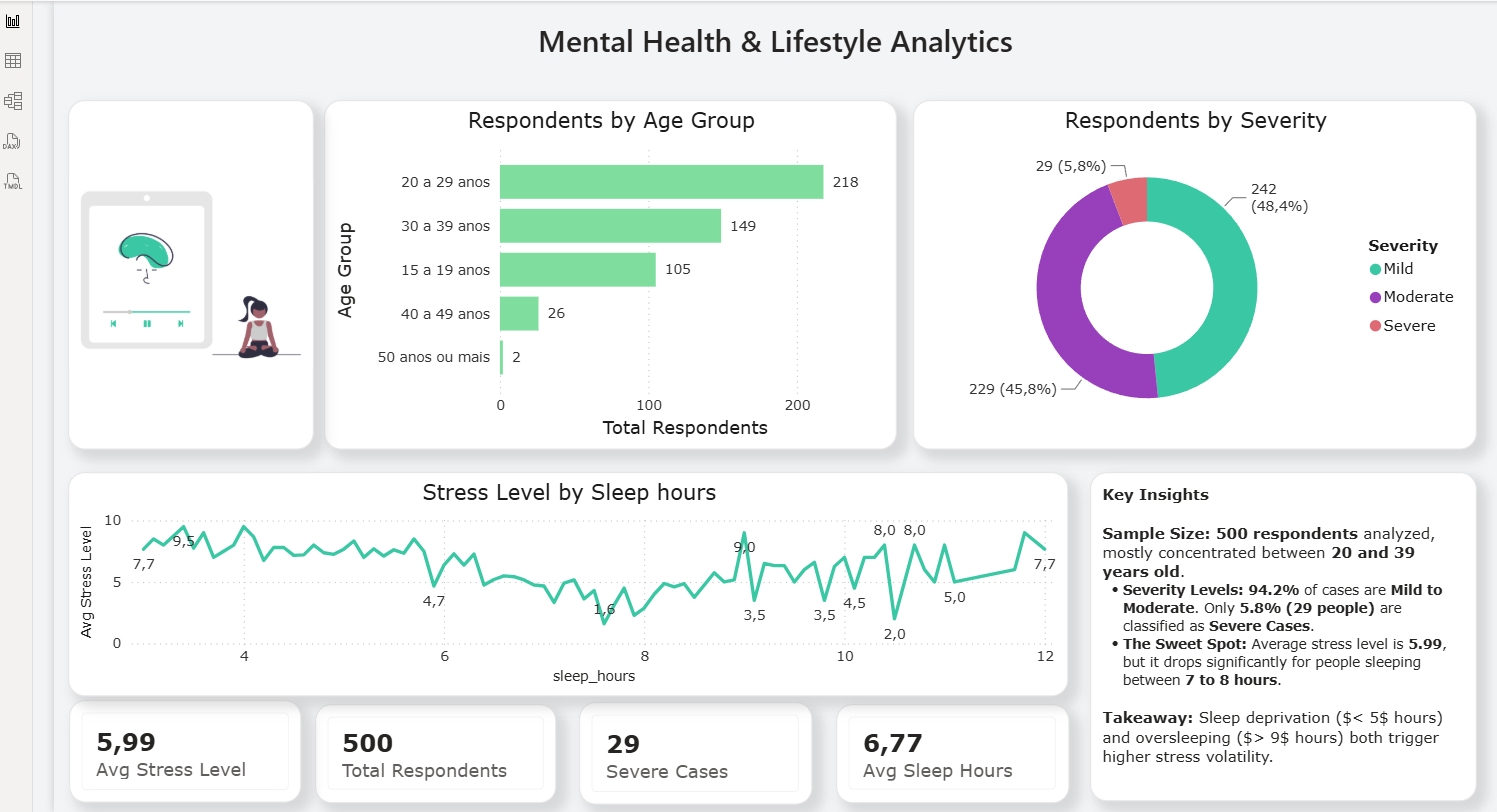

The dashboard page shown, as its layout file describes it:
{"tool":"powerbi","page":{"name":"Dashboard","canvas":[1280,720],"ordinal":0},"visuals":[{"type":"cardVisual","fields":{"Data":["_Medidas.Total Respondentes"]},"box":[231.1,623.4,214,87.8],"z":0},{"type":"cardVisual","fields":{"Data":["_Medidas.Média Nível Estresse"]},"box":[13,620,206,91],"z":1000},{"type":"cardVisual","fields":{"Data":["_Medidas.Média Horas Sono"]},"box":[693.2,623.4,206.9,87.8],"z":2000},{"type":"cardVisual","fields":{"Data":["_Medidas.Casos Graves"]},"box":[465.8,621.7,206.9,91.3],"z":3000},{"type":"barChart","title":"Respondents by Age Group","fields":{"Category":["mental_health_prediction_raw_data.Faixa Etária"],"Y":["_Medidas.Total Respondentes"]},"box":[239,88,508,310],"z":4000},{"type":"donutChart","title":"Respondents by Severity","fields":{"Category":["mental_health_prediction_raw_data.severity"],"Y":["_Measures.Total Respondents"]},"box":[762,88,500,310],"z":5000},{"type":"lineChart","title":"Stress Level by Sleep hours","fields":{"Category":["mental_health_prediction_raw_data.sleep_hours"],"Y":["_Measures.Avg Stress Level"]},"box":[12,418,887,199],"z":6000},{"type":"textbox","box":[919,418,343,292],"z":7000},{"type":"textbox","box":[425.1,16.1,429.9,41.2],"z":8000},{"type":"image","box":[12,88,218,310],"z":9000}]}

Visuals, with their boxes on the page's 1280x720 design canvas (x1, y1, x2, y2). These are canvas units, not pixel positions in the 1497x812 screenshot, which may show the page scaled, cropped or inside an application window:
cardVisual - _Medidas.Total Respondentes: (x1=231, y1=623, x2=445, y2=711)
cardVisual - _Medidas.Média Nível Estresse: (x1=13, y1=620, x2=219, y2=711)
cardVisual - _Medidas.Média Horas Sono: (x1=693, y1=623, x2=900, y2=711)
cardVisual - _Medidas.Casos Graves: (x1=466, y1=622, x2=673, y2=713)
"Respondents by Age Group" barChart: (x1=239, y1=88, x2=747, y2=398)
"Respondents by Severity" donutChart: (x1=762, y1=88, x2=1262, y2=398)
"Stress Level by Sleep hours" lineChart: (x1=12, y1=418, x2=899, y2=617)
textbox: (x1=919, y1=418, x2=1262, y2=710)
textbox: (x1=425, y1=16, x2=855, y2=57)
image: (x1=12, y1=88, x2=230, y2=398)
